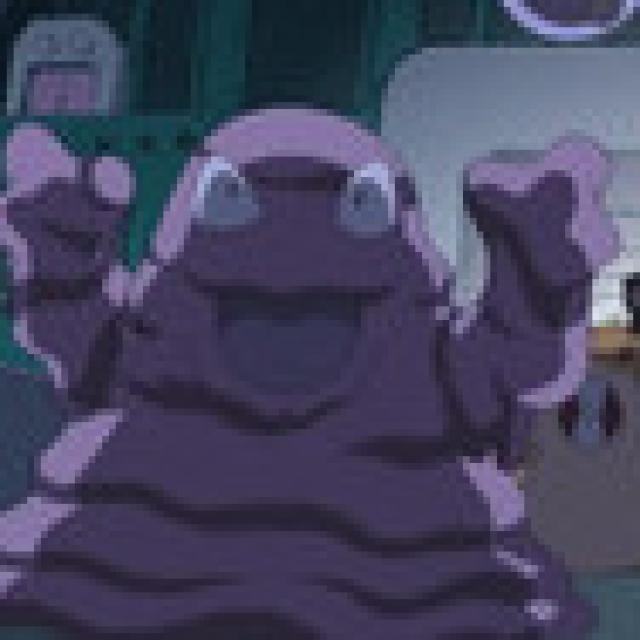Grimer: (85, 105, 566, 640)
